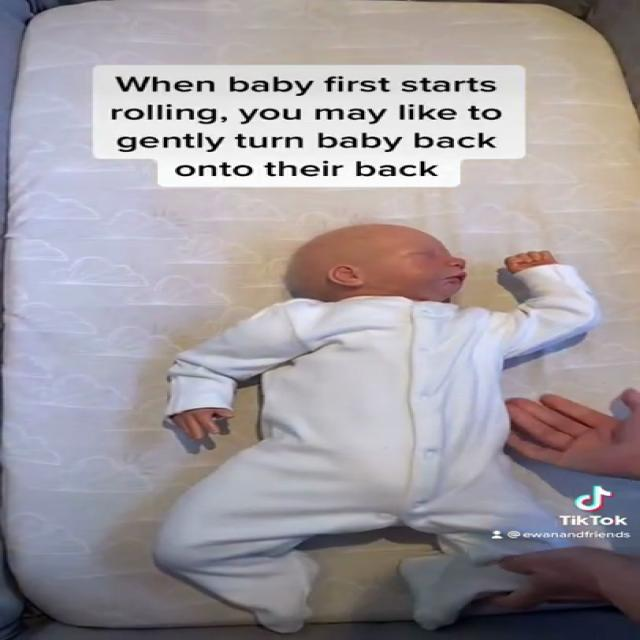baby: (138, 219, 620, 631)
